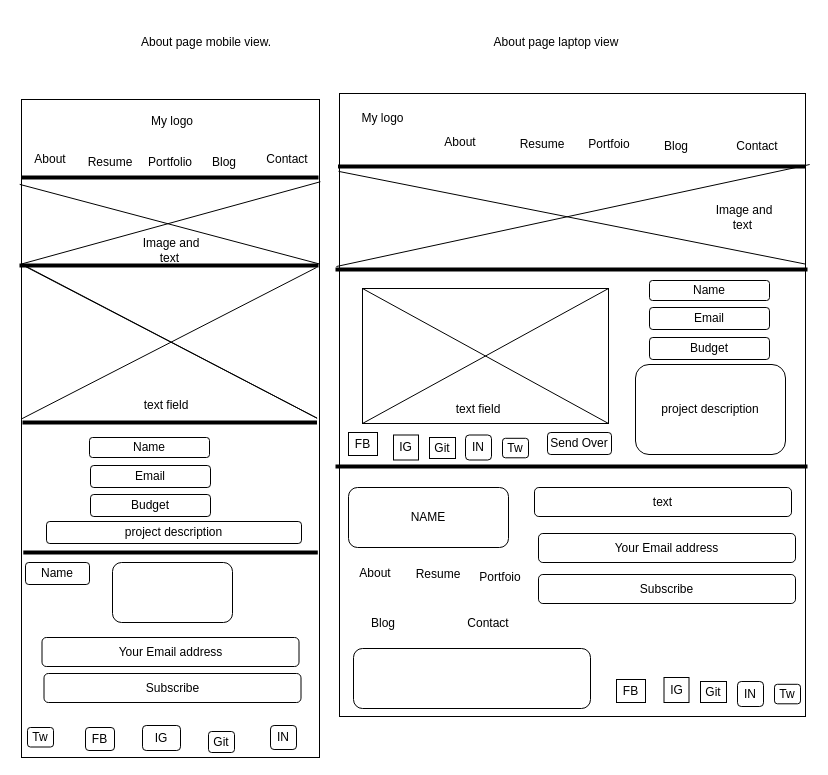
Some shapes in this 828 by 775 pixel diagram are drawn without their labels. Here are the shapes that lost their labels. From the top down, the centre of each, then its label:
(x=172, y=592): work
(x=471, y=678): some Reserved terms
